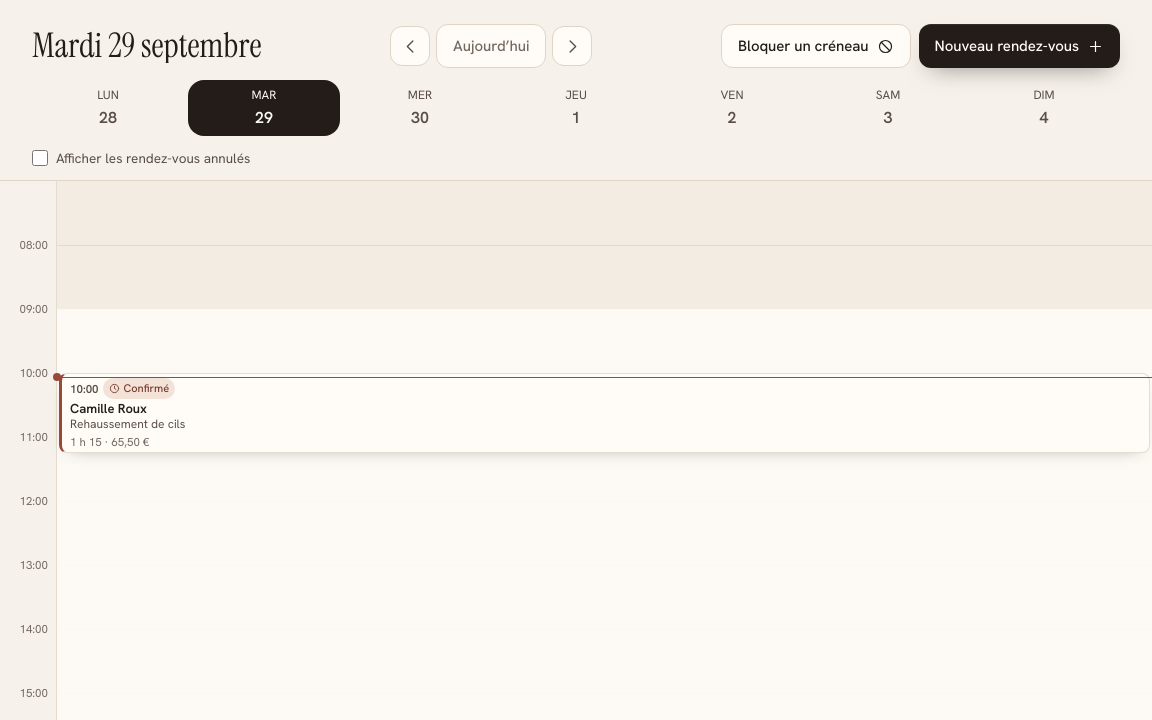
Test: rendering › renders appointments with time, client, service and status as text
Click the button with aria-label "10:00, Camille Roux, Rehaussement de cils, Confirmé" at x=139, y=388, box 59,373 -> 1150,453
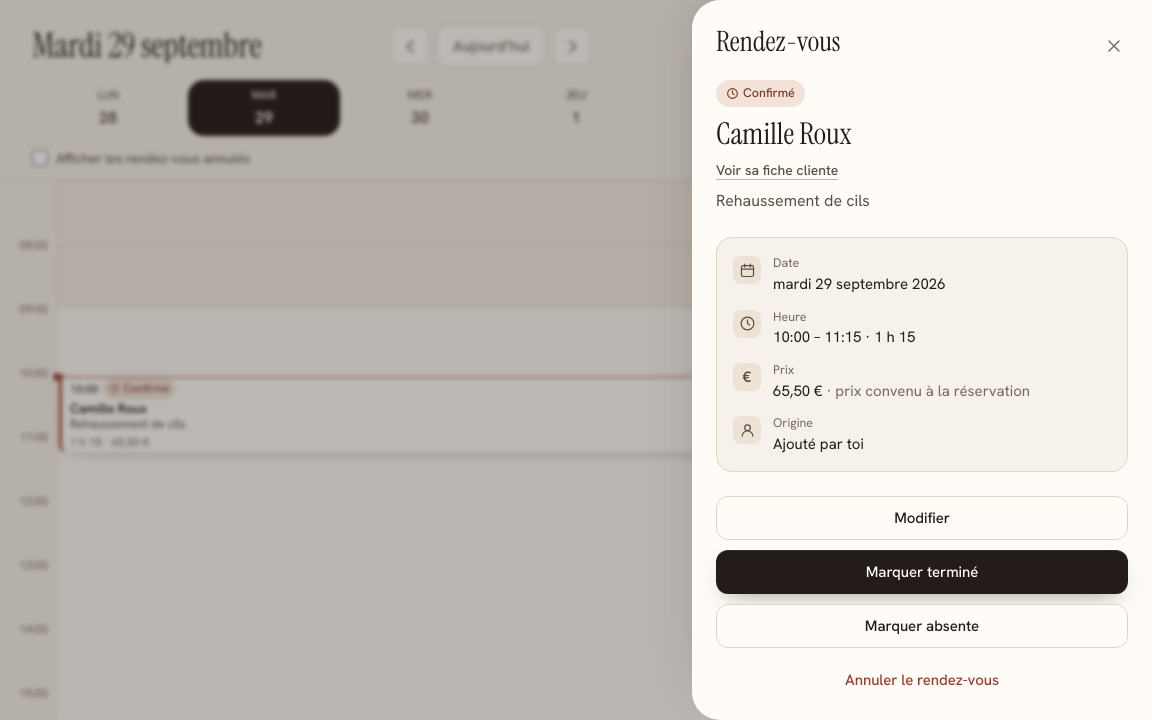
Expected: the text "65,50 € · prix convenu à la réservation" is shown, 773,380 -> 1030,402
Expected: the text "Confirmé" is shown, 743,84 -> 795,103
